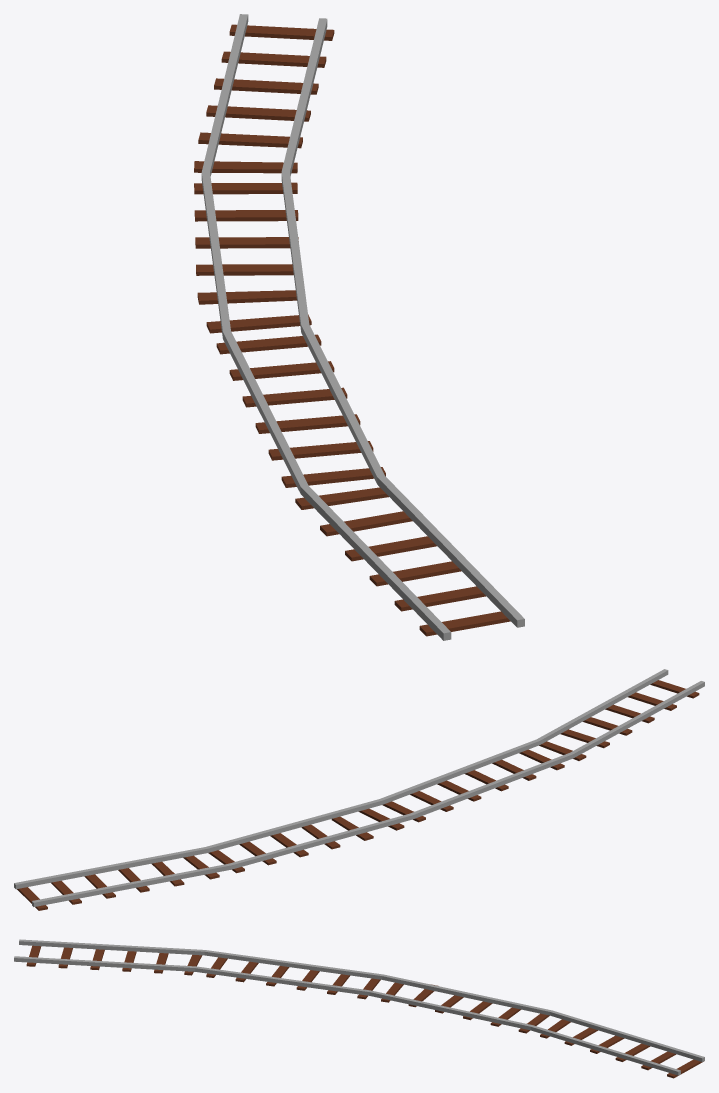
The model's file is curved track.obj.
3 renders of one model, top to bottom at view 1: azimuth 30°, elevation 25°; view 2: azimuth 150°, elevation 25°; view 3: azimuth 270°, elevation 25°, orthographic. The views are drawn at different scales.
Visible parts, largest first — view 1: Cube_Cube.001; view 2: Cube_Cube.001; view 3: Cube_Cube.001.
Part boxes in pixels (box(x1,y1,x2,y2)): Cube_Cube.001: box(194, 14, 524, 640); Cube_Cube.001: box(14, 669, 704, 910); Cube_Cube.001: box(14, 939, 704, 1078).
Size of the model in its own units: 23.72 by 0.5049 by 51.74.
Materials: 1 (1 with a texture image).
